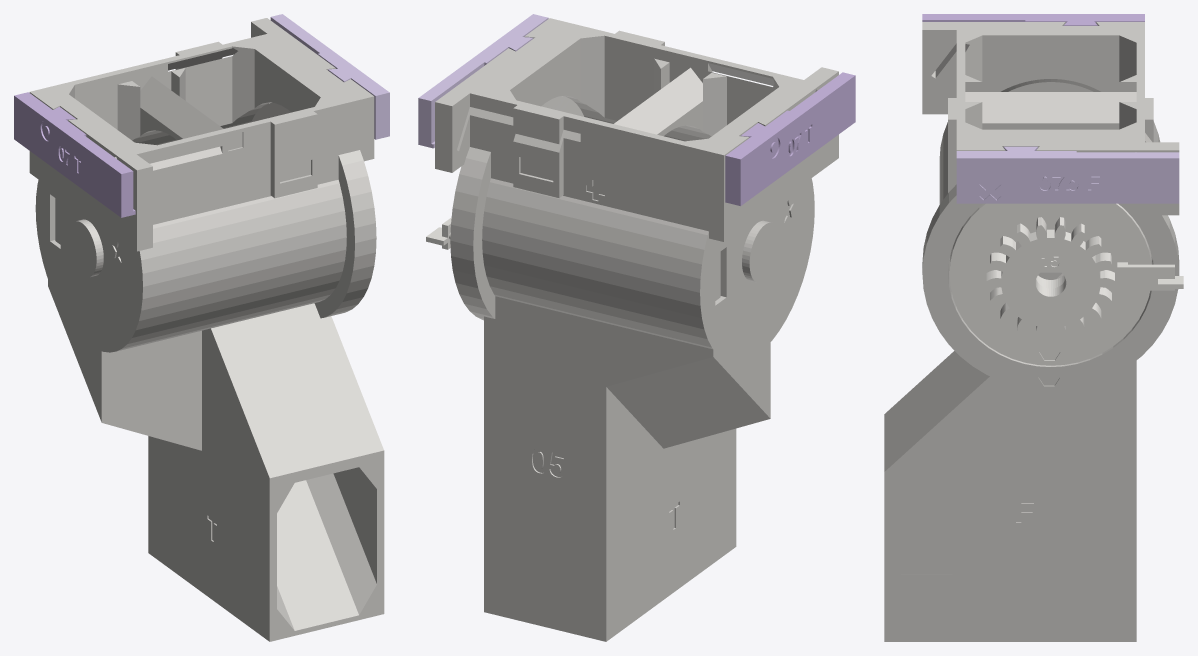
Rendered from a7_flaps.glb.
The picture shows the model from 3 angles, left to right: view 1: azimuth 30°, elevation 25°; view 2: azimuth 150°, elevation 25°; view 3: azimuth 270°, elevation 25°; orthographic projection. The views are drawn at different scales.
Parts seen in each view (by area): view 1: 05_wheel_housing, 07_flap_holder, 07b_flap_holder_food; view 2: 05_wheel_housing, 07_flap_holder, 07b_flap_holder_food, 12_end_cap; view 3: 05_wheel_housing, 12_end_cap, 07b_flap_holder_food, 15_wheel_gear, 07_flap_holder.
Boxes of the visible parts, x1,y1,x2,y2 form: 05_wheel_housing: (29,18,384,641); 07_flap_holder: (14,92,135,217); 07b_flap_holder_food: (270,14,389,139); 05_wheel_housing: (435,18,838,641); 07_flap_holder: (725,72,855,206); 07b_flap_holder_food: (418,14,548,148); 12_end_cap: (426,96,584,249); 05_wheel_housing: (884,22,1179,641); 12_end_cap: (949,203,1183,365); 07b_flap_holder_food: (956,146,1179,203); 15_wheel_gear: (986,217,1114,340); 07_flap_holder: (922,14,1144,25).
Bounding box in the file's own units: 0.0797 × 0.1299 × 0.0699.
